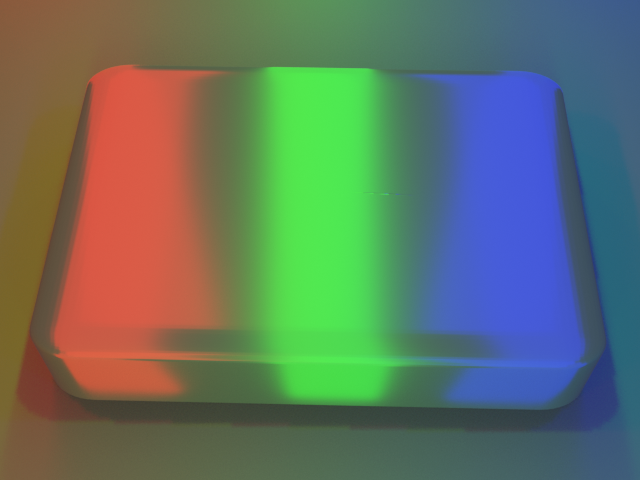scratch: (300, 141, 474, 239)
